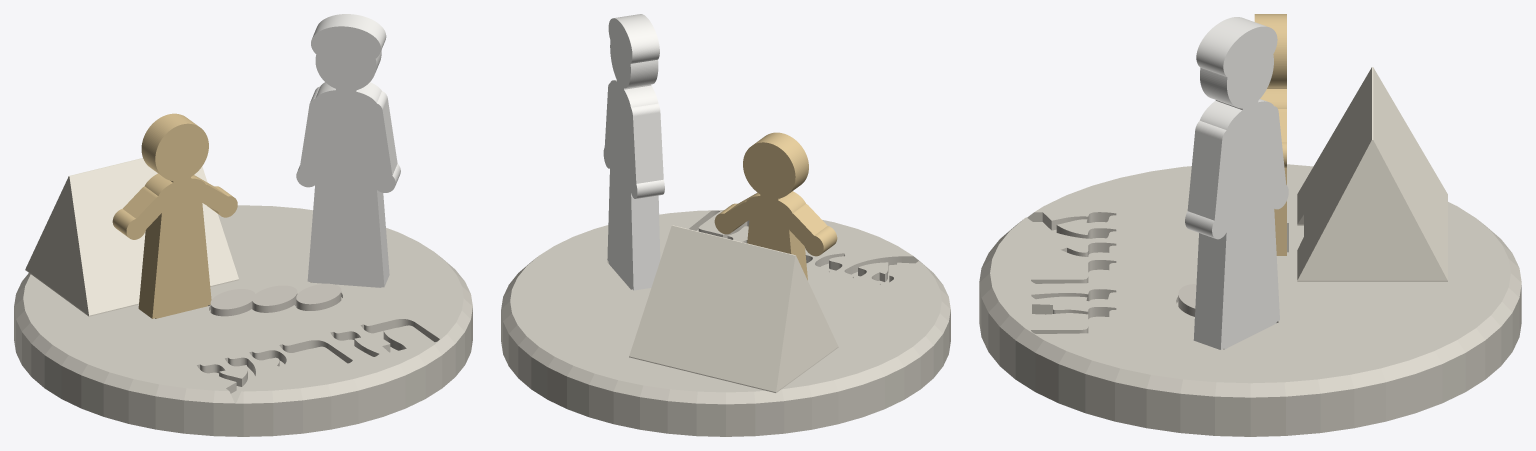
The model's file is tazria.glb.
3 views of the same model, side by side, from view 1: azimuth 30°, elevation 25°; view 2: azimuth 150°, elevation 25°; view 3: azimuth 270°, elevation 25° (orthographic). The views are drawn at different scales.
Parts seen in each view (by area): view 1: stage, kohen, tent, patient, path; view 2: stage, tent, kohen, patient; view 3: stage, kohen, tent, patient.
Part boxes in pixels (x1,y1,x2,y2): stage: [14, 205, 472, 436]; kohen: [296, 14, 400, 287]; tent: [25, 158, 238, 316]; patient: [112, 113, 237, 318]; path: [210, 283, 341, 316]; stage: [501, 210, 950, 436]; tent: [629, 225, 838, 392]; kohen: [603, 14, 664, 290]; patient: [714, 132, 837, 280]; stage: [979, 164, 1521, 436]; kohen: [1185, 17, 1288, 349]; tent: [1297, 67, 1447, 281]; patient: [1254, 14, 1286, 255].
Bounding box in the file's own units: 40 × 28.81 × 40.
